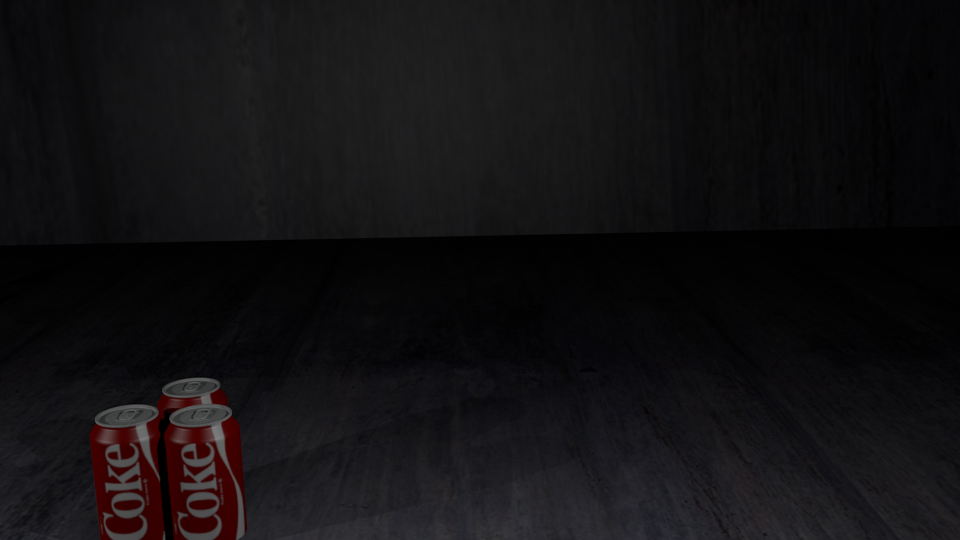cola_can: (164, 404, 243, 539), (90, 405, 169, 539), (157, 378, 226, 510)
